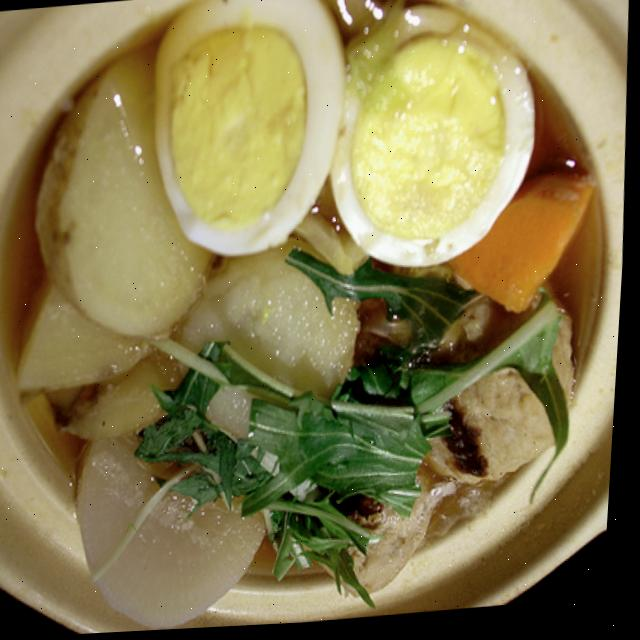汤锅炖物: (0, 0, 625, 639)
